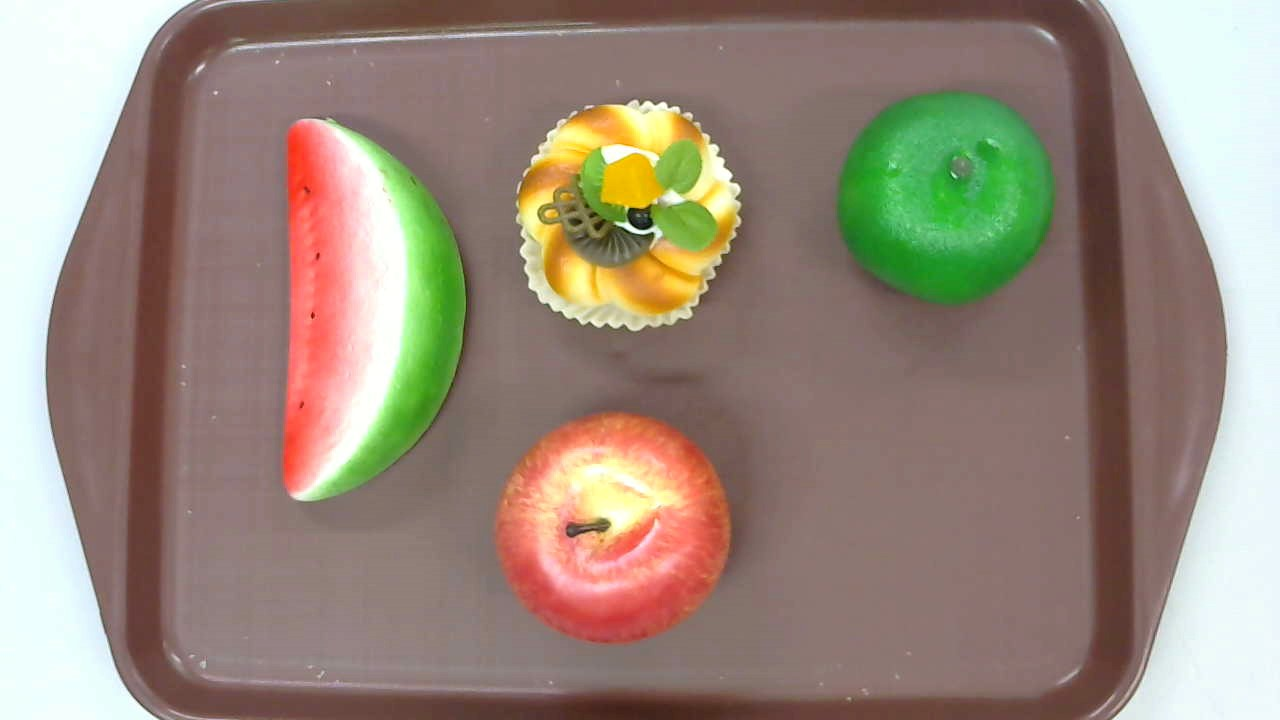fruit tart: (513, 99, 741, 334)
green orange: (838, 91, 1056, 308)
red apple: (493, 409, 732, 644)
water melon: (282, 116, 465, 500)
